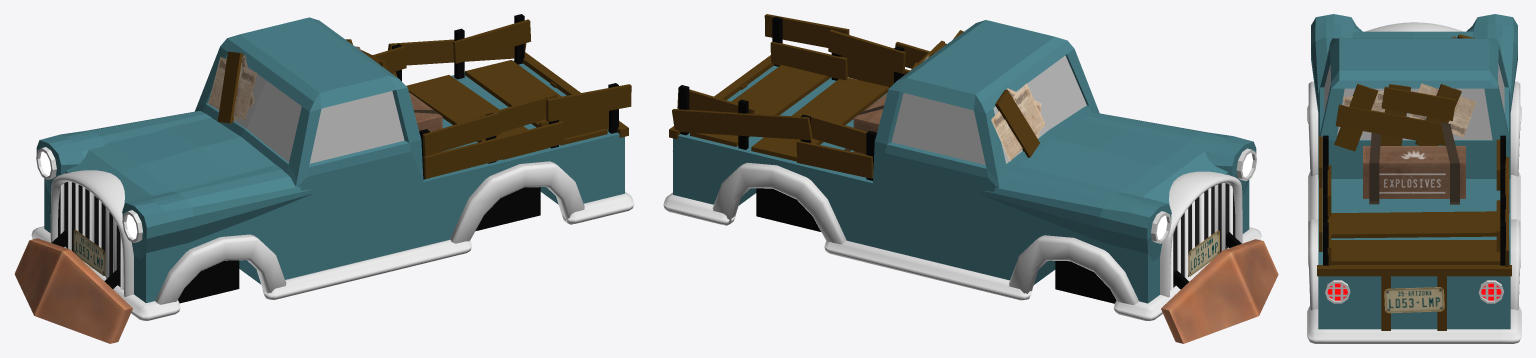
File: Car_player_v2.fbx
3 views of the same model, side by side, from view 1: azimuth 30°, elevation 25°; view 2: azimuth 150°, elevation 25°; view 3: azimuth 270°, elevation 25° (orthographic). The views are drawn at different scales.
Visible parts, largest first — view 1: Cube.041; view 2: Cube.041; view 3: Cube.041.
Part boxes in pixels (x1,y1,x2,y2): Cube.041: (14,14,634,343); Cube.041: (663,14,1278,343); Cube.041: (1307,14,1521,343).
Bounding box in the file's own units: 651 × 219 × 235.
